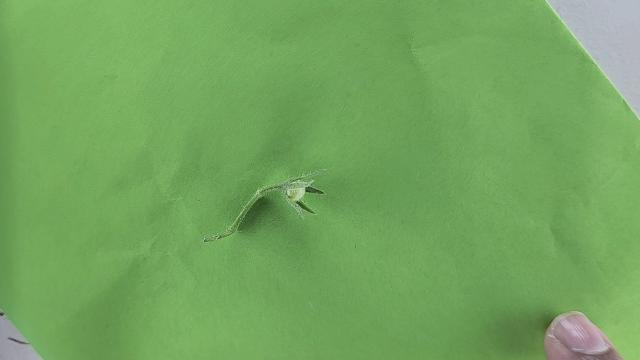Fruit Bud: (281, 178, 327, 218)
